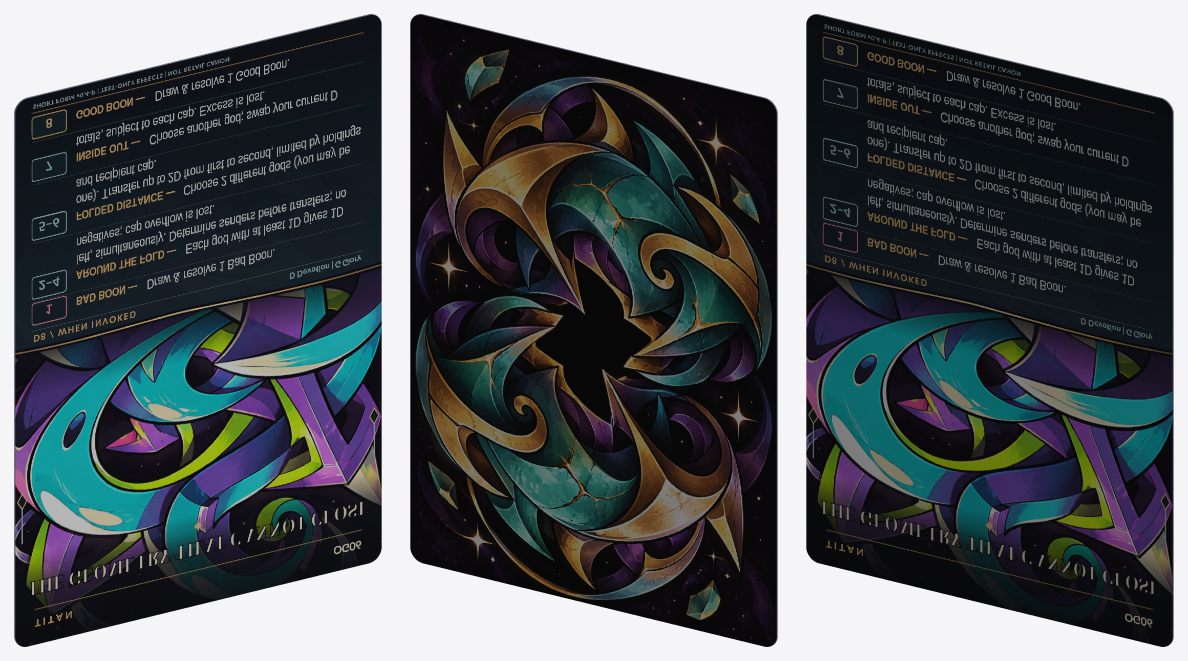
File: SGLD_OG06_The_Geometry_That_Cannot_Close_3D_Card_v0.1-P_UNAPPROVED.glb
3 views of the same model, side by side, from view 1: azimuth 30°, elevation 25°; view 2: azimuth 150°, elevation 25°; view 3: azimuth 330°, elevation 25° (orthographic).
Visible parts, largest first — view 1: OG06_FRONT, OG06_EDGE; view 2: OG06_BACK, OG06_EDGE; view 3: OG06_FRONT, OG06_EDGE.
Part boxes in pixels (x1,y1,x2,y2): OG06_FRONT: (15,15,381,646); OG06_EDGE: (14,14,381,646); OG06_BACK: (410,15,776,646); OG06_EDGE: (410,14,777,646); OG06_FRONT: (806,15,1172,646); OG06_EDGE: (806,14,1173,646).
Size of the model in its own units: 0.0889 by 0.127 by 0.00035.
3 materials, 2 textured.
